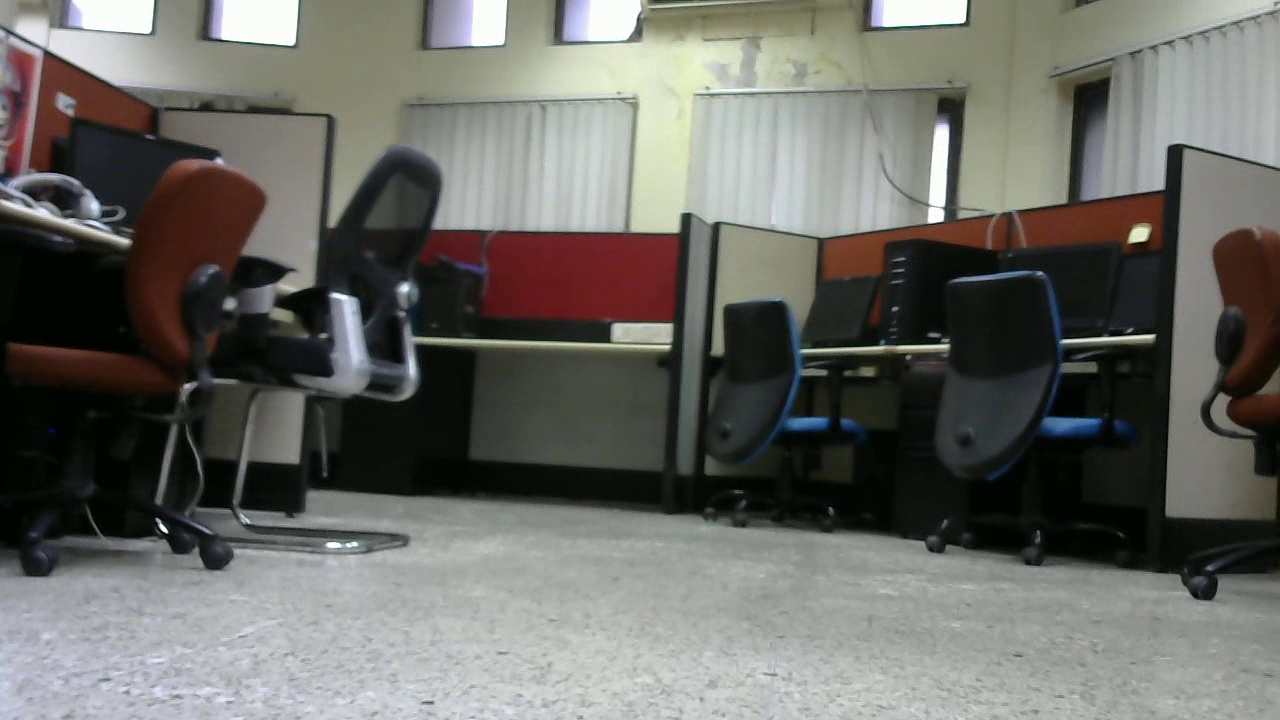chair: (2, 156, 239, 573), (901, 269, 1132, 568), (284, 145, 450, 549), (701, 301, 863, 528)
